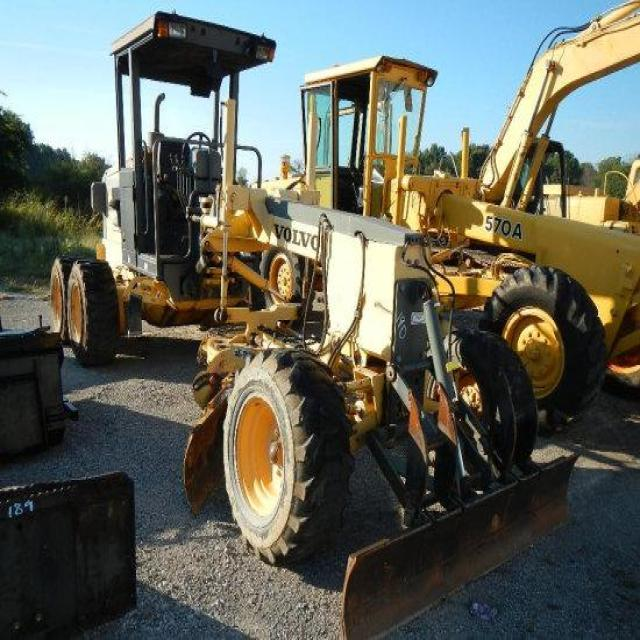buldozerpayloadergrader: (46, 6, 578, 620)
